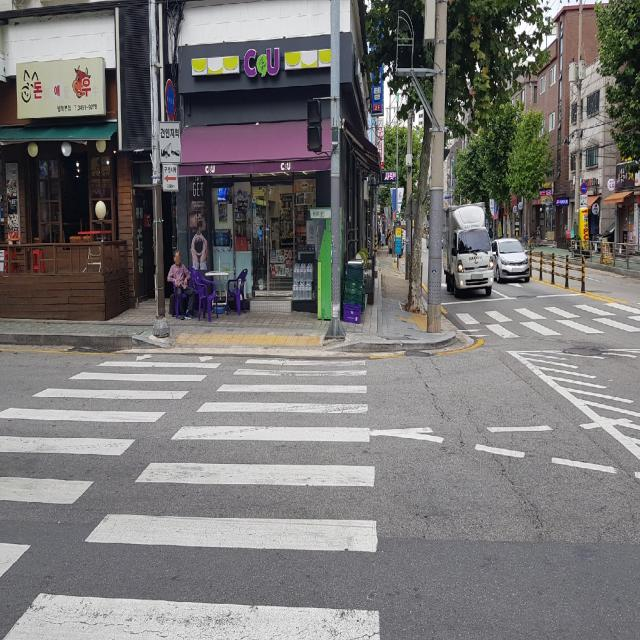횡단보도: (0, 352, 382, 640), (455, 304, 640, 330)
